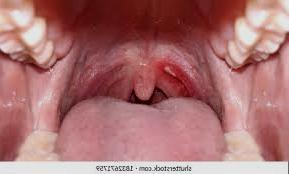Ulcer: (158, 65, 179, 78)
